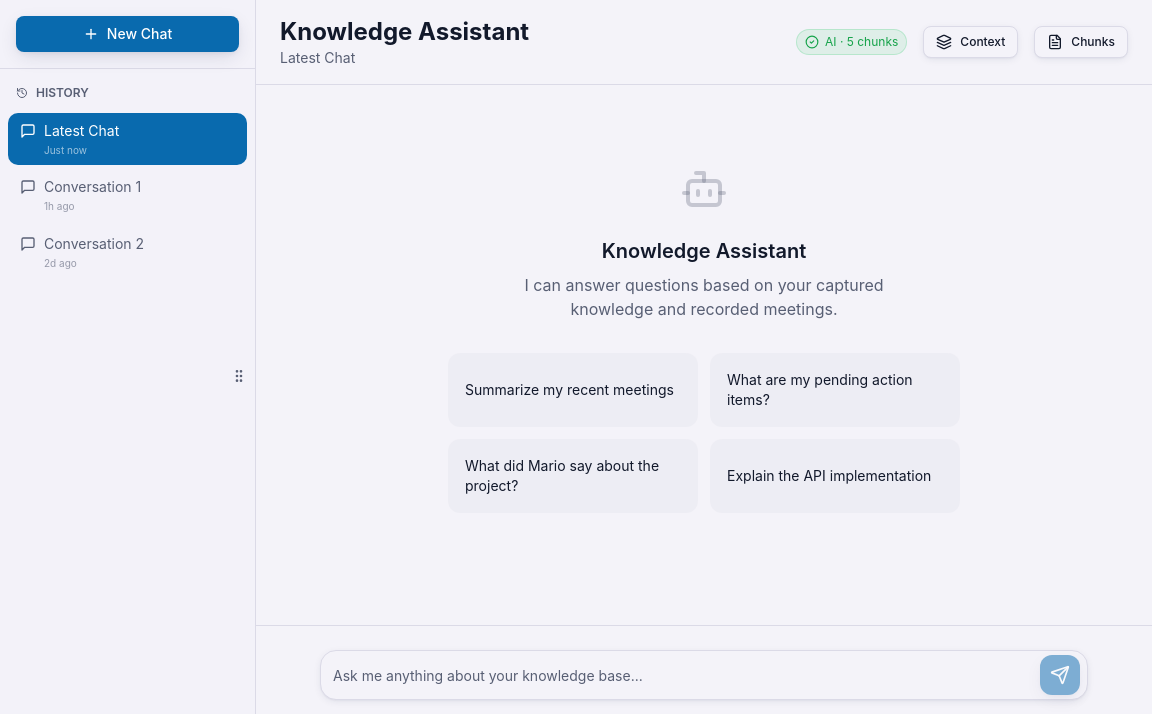
it: Chat Component › addContext result-respect (handleToggleContext) › addContext {success:true} ⇒ capture installed + displayed, metadata re-fetched
Expected: the text "HISTORY" is shown, [16,85,89,100]
Click the button titled "Add Context" at [971, 42], box [923,26,1018,58]
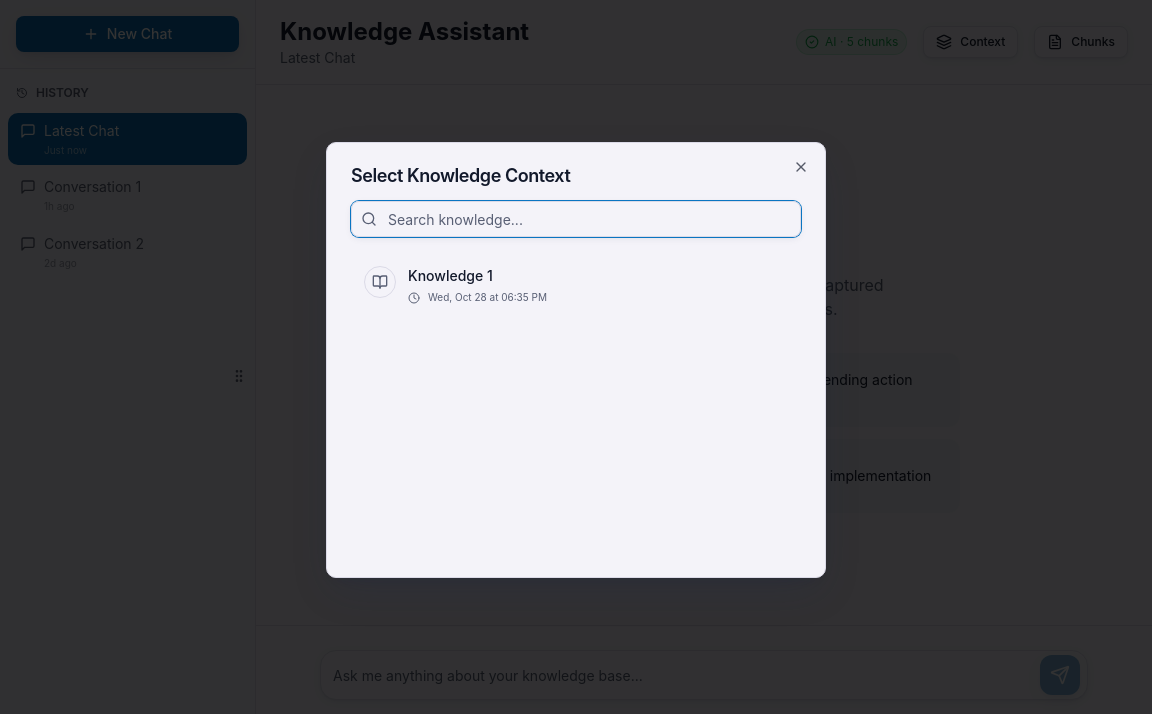
Click the text "Knowledge 1" at [450, 276], box [408,267,493,284]
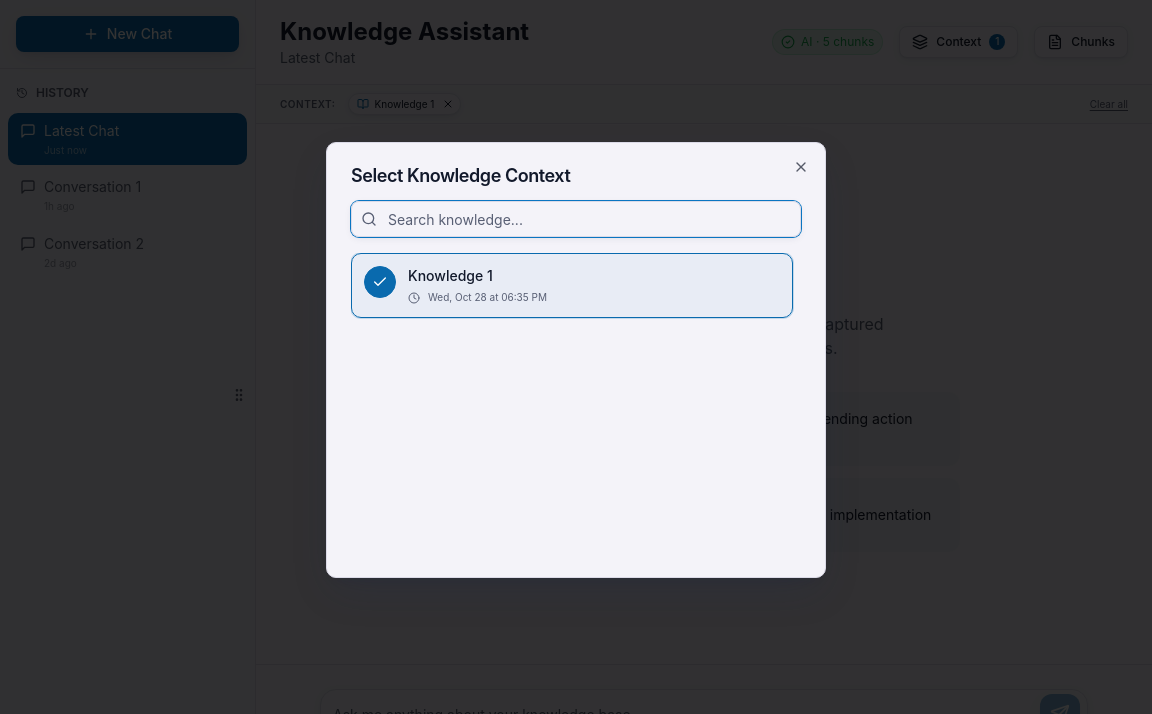
Expected: the text "Context:" is shown, [280,96,336,112]
